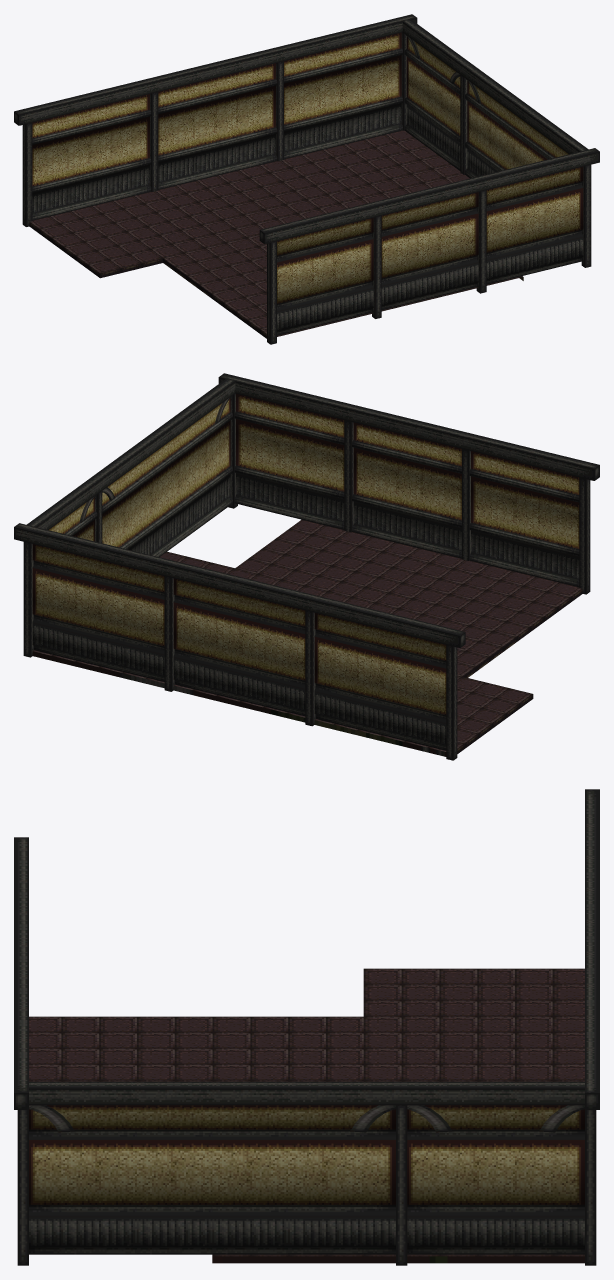
Rendered from EnvBdgMD_Forest_A_Indoor_House_C.FBX.
The picture shows the model from 3 angles, top to bottom: view 1: azimuth 30°, elevation 25°; view 2: azimuth 150°, elevation 25°; view 3: azimuth 270°, elevation 25°; orthographic projection. The views are drawn at different scales.
Parts seen in each view (by area): view 1: EnvBdgMD_Forest_A_Indoor_House_C; view 2: EnvBdgMD_Forest_A_Indoor_House_C; view 3: EnvBdgMD_Forest_A_Indoor_House_C.
Boxes of the visible parts, x1,y1,x2,y2 form: EnvBdgMD_Forest_A_Indoor_House_C: (14,14,599,344); EnvBdgMD_Forest_A_Indoor_House_C: (14,373,599,760); EnvBdgMD_Forest_A_Indoor_House_C: (14,789,599,1265).
Size of the model in its own units: 1900 by 520 by 1550.
